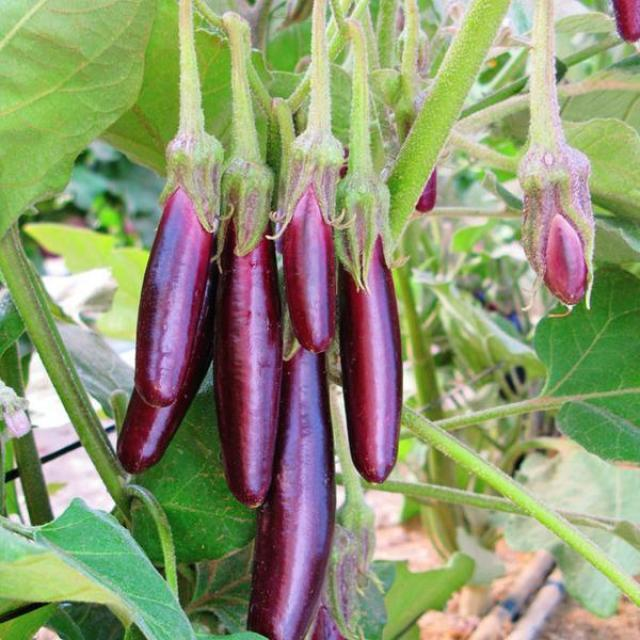eggplant: (117, 164, 218, 468), (245, 330, 336, 640), (138, 130, 224, 409), (221, 154, 285, 508), (338, 164, 405, 486), (286, 136, 342, 356), (520, 146, 592, 307)
